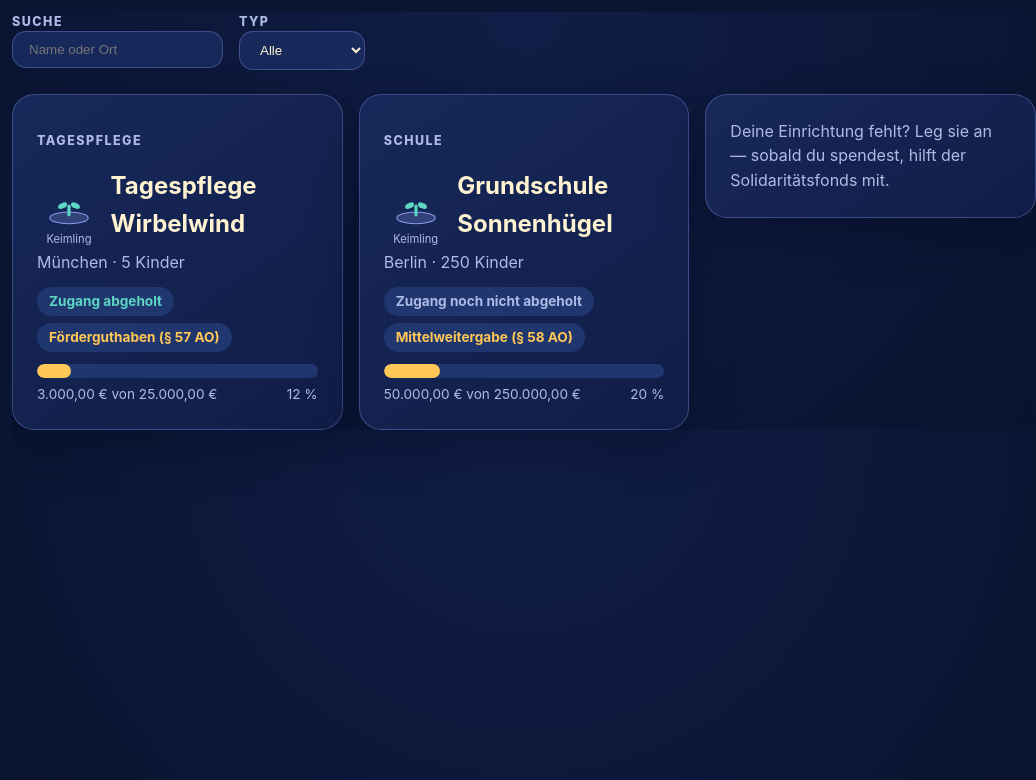
Test: EinrichtungenFilter › zeigt Empty-State, wenn Suche nichts findet
Type "xyz-gibt-es-nicht" into the field labelled "Suche" at (118, 49), box [12,31,223,68]
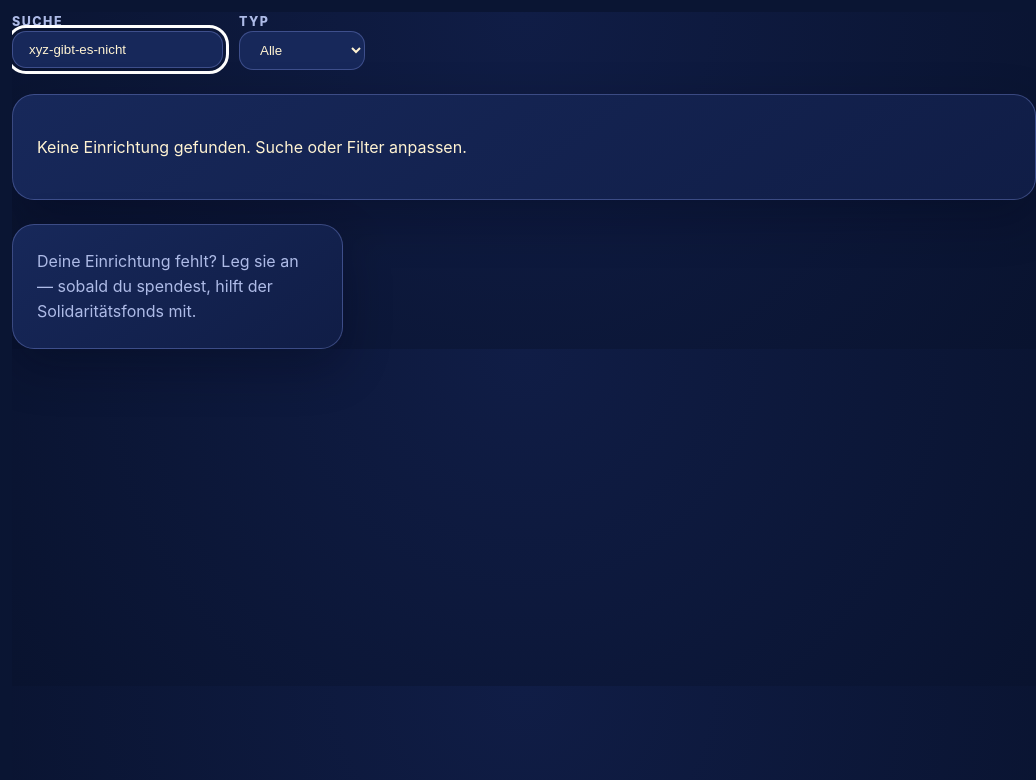
Expected: the text "Keine Einrichtung gefunden. Suche oder Filter anpassen." is shown, [37,136,467,156]
